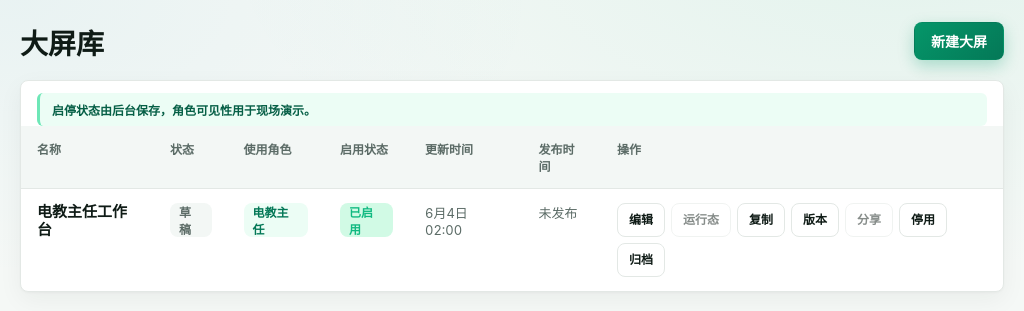
Scenario: DashboardList › toggles workbench availability through API and updates the row
Click the button with test id "toggle-workbench-availability-dashboard-electro".
click(923, 220)  # box [899, 203, 947, 237]
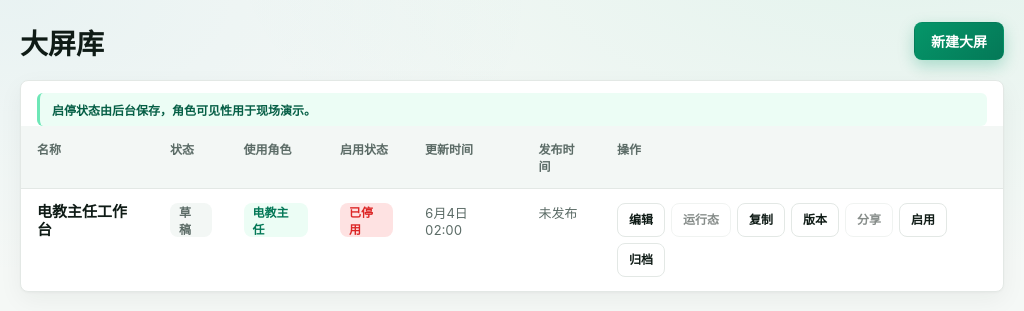
Now the row "电教主任工作台 草稿 电教主任 已停用 6月4日 02:00 未发布 编辑 运行态 复制 版本 分享 启用 归档" is shown, box [21, 188, 1003, 291]
Now the button with test id "toggle-workbench-availability-dashboard-electro" reads "启用"
Click the button with test id "toggle-workbench-availability-dashboard-electro".
click(923, 220)  # box [899, 203, 947, 237]
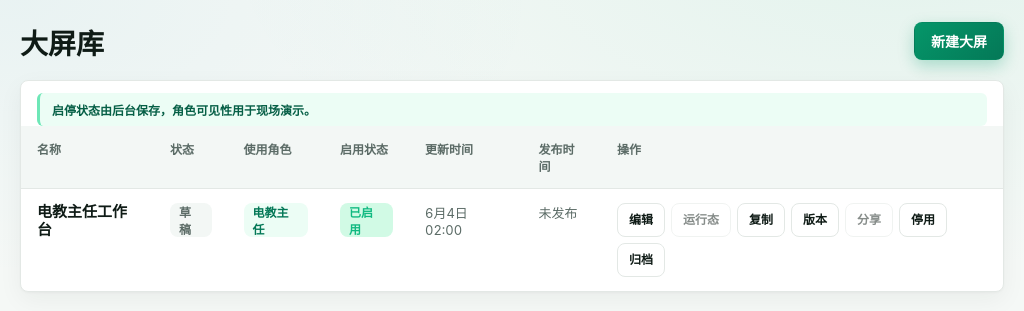
Now the row "电教主任工作台 草稿 电教主任 已启用 6月4日 02:00 未发布 编辑 运行态 复制 版本 分享 停用 归档" is shown, box [21, 188, 1003, 291]
Now the button with test id "toggle-workbench-availability-dashboard-electro" reads "停用", box [899, 203, 947, 237]
